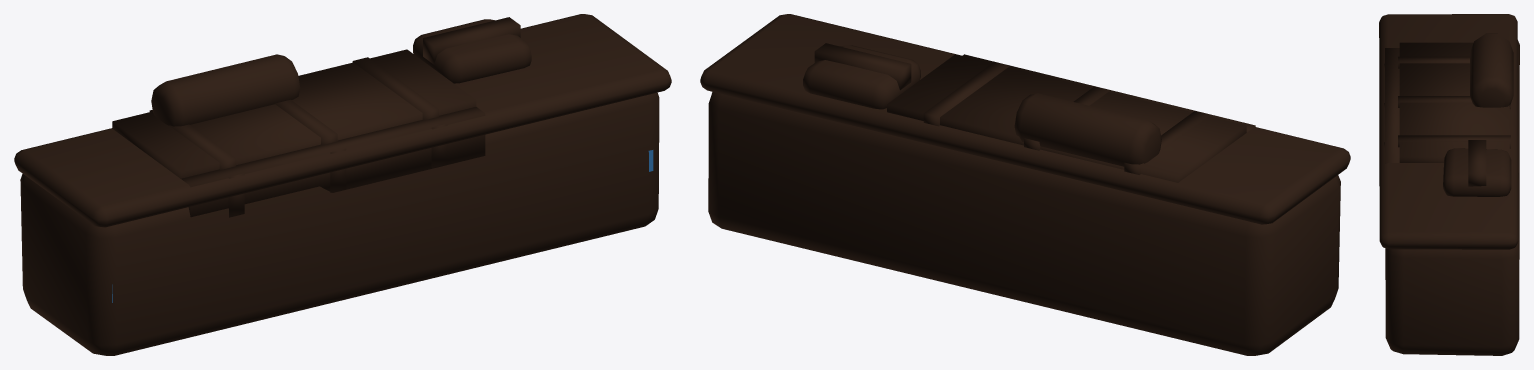
The model's file is mastaba.glb.
The picture shows the model from 3 angles, left to right: view 1: azimuth 30°, elevation 25°; view 2: azimuth 150°, elevation 25°; view 3: azimuth 270°, elevation 25°; orthographic projection. The views are drawn at different scales.
Visible parts, largest first — view 1: mastaba_outline; view 2: mastaba_outline; view 3: mastaba_outline.
Boxes of the visible parts, x1,y1,x2,y2 form: mastaba_outline: (14,14,671,355); mastaba_outline: (700,14,1350,355); mastaba_outline: (1379,14,1519,355).
Size of the model in its own units: 2.57 by 0.8598 by 0.6798.
